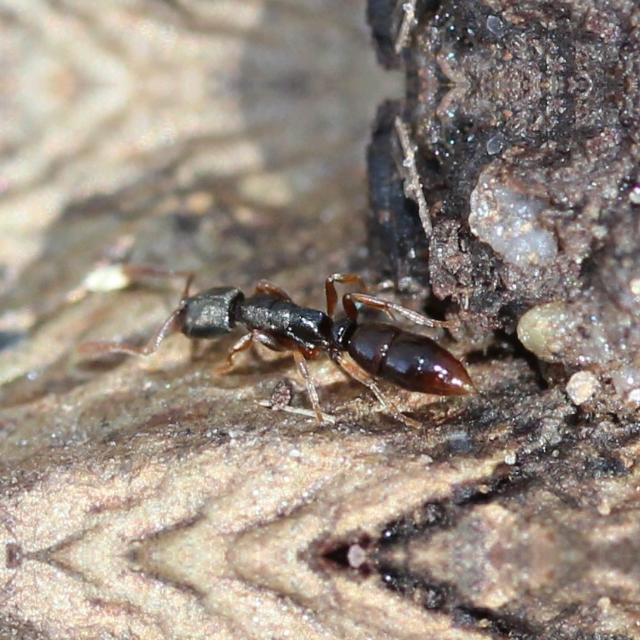Ponera: (146, 236, 522, 448)
